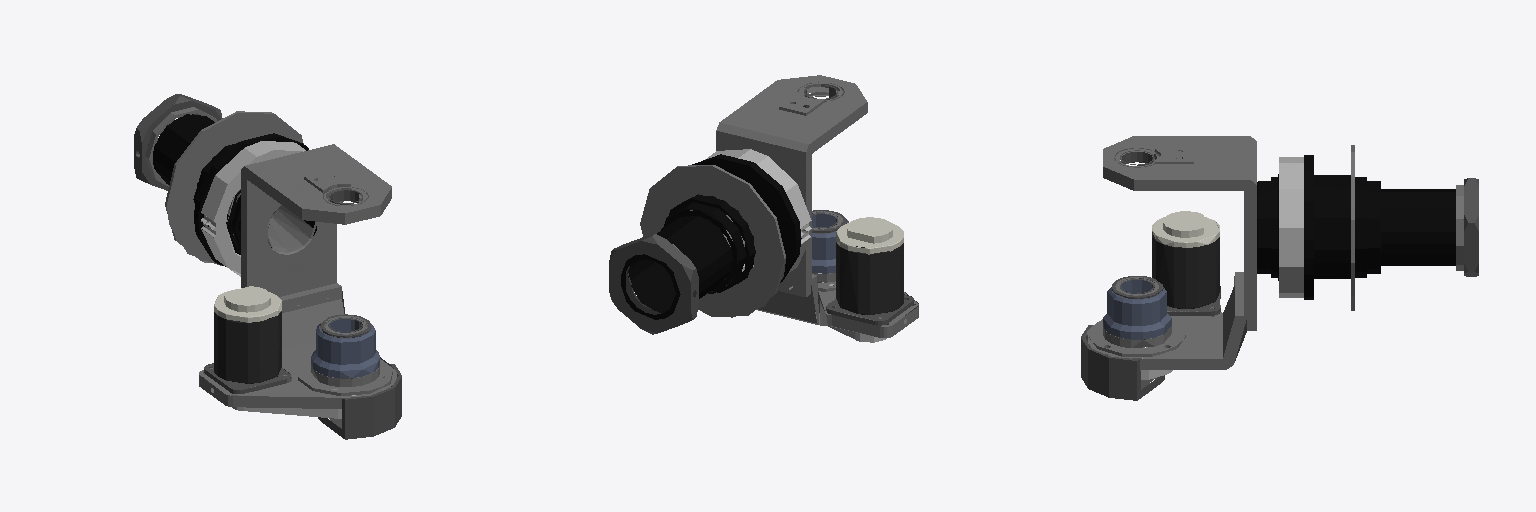
The picture shows the model from 3 angles: view 1: azimuth 30°, elevation 25°; view 2: azimuth 150°, elevation 25°; view 3: azimuth 270°, elevation 25°; orthographic projection.
Bounding box in the file's own units: 0.0665 × 0.0792 × 0.1267.
1 materials, 1 textured.